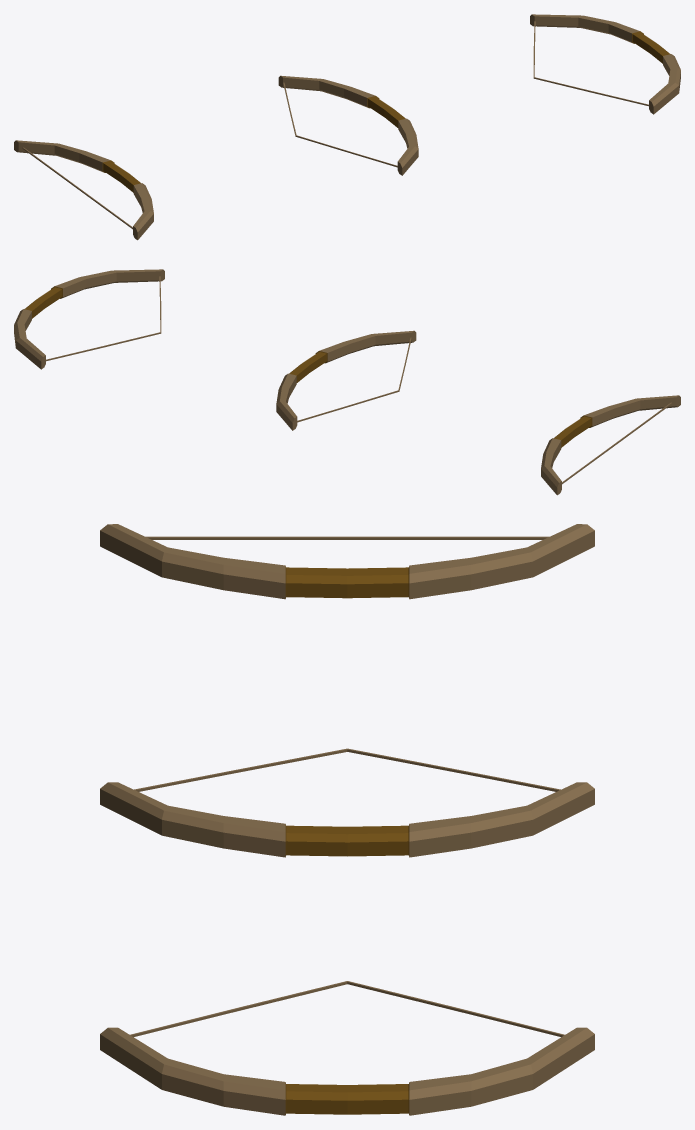
The model's file is Wood_Bow_3vers.fbx.
3 views of the same model, one above another, from view 1: azimuth 30°, elevation 25°; view 2: azimuth 150°, elevation 25°; view 3: azimuth 270°, elevation 25° (orthographic). The views are drawn at different scales.
Visible parts, largest first — view 1: obj_Wood_Bow_Stretching_2, obj_Wood_Bow_Stretching_1, obj_Wood_Bow; view 2: obj_Wood_Bow_Stretching_2, obj_Wood_Bow_Stretching_1, obj_Wood_Bow; view 3: obj_Wood_Bow_Stretching_2, obj_Wood_Bow_Stretching_1, obj_Wood_Bow.
Boxes of the visible parts, x1=… form: obj_Wood_Bow_Stretching_2: x1=530, y1=14, x2=680, y2=114; obj_Wood_Bow_Stretching_1: x1=278, y1=75, x2=418, y2=175; obj_Wood_Bow: x1=14, y1=140, x2=153, y2=240; obj_Wood_Bow_Stretching_2: x1=14, y1=269, x2=164, y2=369; obj_Wood_Bow_Stretching_1: x1=276, y1=330, x2=416, y2=430; obj_Wood_Bow: x1=541, y1=395, x2=680, y2=495; obj_Wood_Bow_Stretching_2: x1=100, y1=981, x2=594, y2=1115; obj_Wood_Bow_Stretching_1: x1=100, y1=748, x2=594, y2=857; obj_Wood_Bow: x1=100, y1=524, x2=594, y2=599.
Size of the model in its own units: 221 by 4.01 by 81.01.
